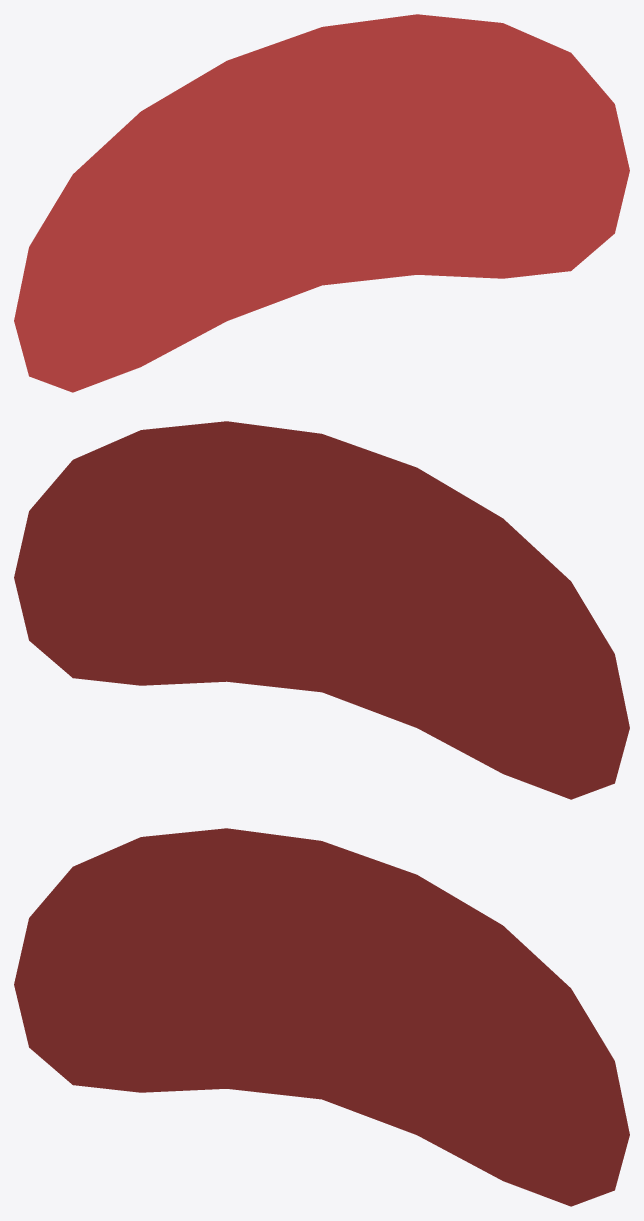
The model's file is mouth_7.fbx.
The picture shows the model from 3 angles, top to bottom: view 1: azimuth 30°, elevation 25°; view 2: azimuth 150°, elevation 25°; view 3: azimuth 330°, elevation 25°; orthographic projection.
Parts seen in each view (by area): view 1: mouth_7; view 2: mouth_7; view 3: mouth_7.
Part boxes in pixels (box(x1,y1,x2,y2)): mouth_7: box(14, 14, 629, 392); mouth_7: box(14, 421, 629, 799); mouth_7: box(14, 828, 629, 1206).
Bounding box in the file's own units: 0.3154 × 0.1493 × 0.000119.
